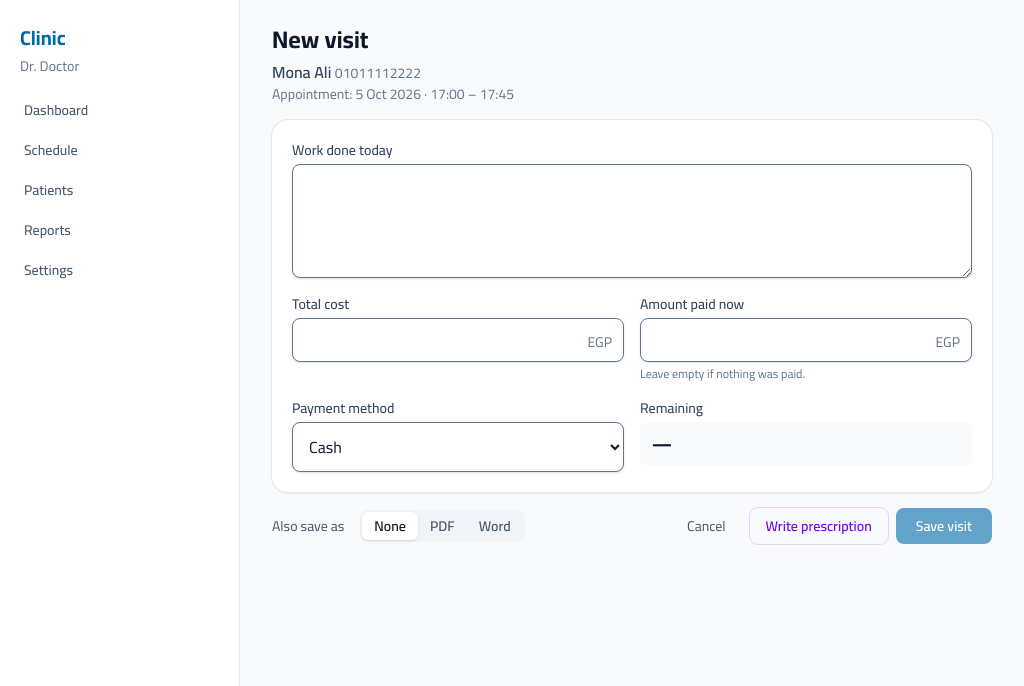
Test: VisitForm › after saving, the patient page offers a prescription for this visit
Type "Extraction" into the text box labelled "Work done today" at (632, 221), box [292,164,972,278]
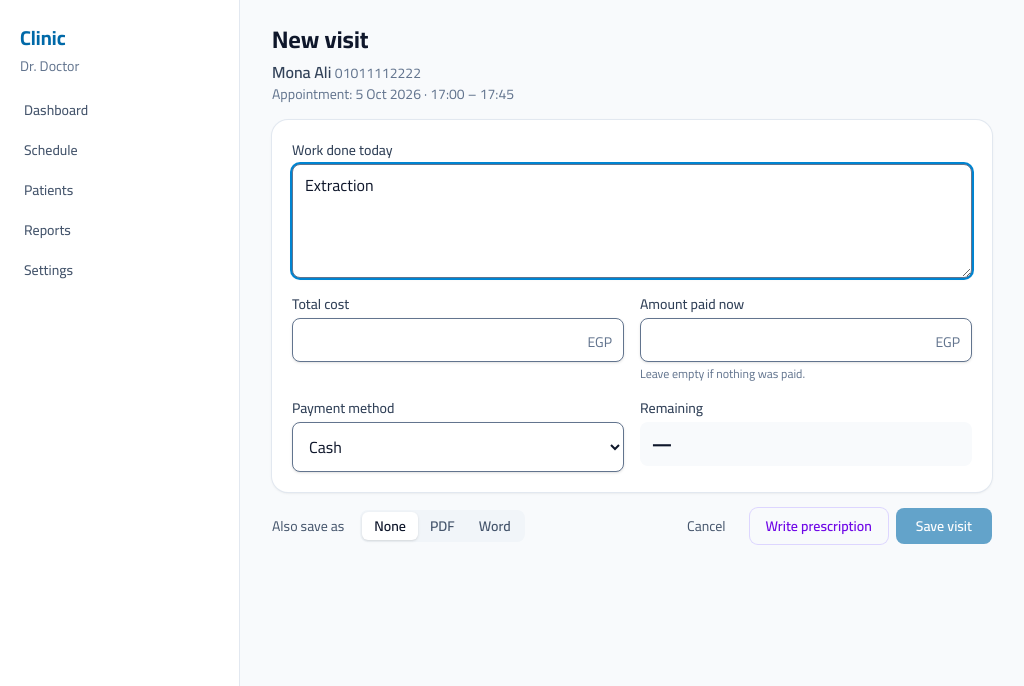
Type "800" into the field labelled "Total cost" at (458, 340), box [292,318,624,362]
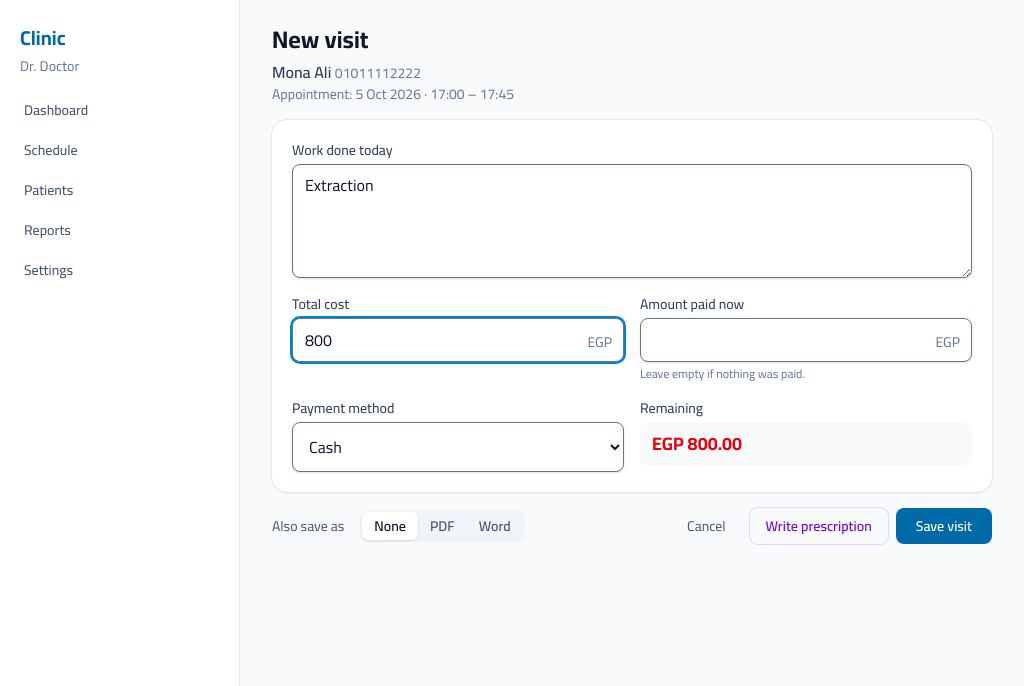
Type "800" into the field labelled "Amount paid now" at (806, 340), box [640,318,972,362]
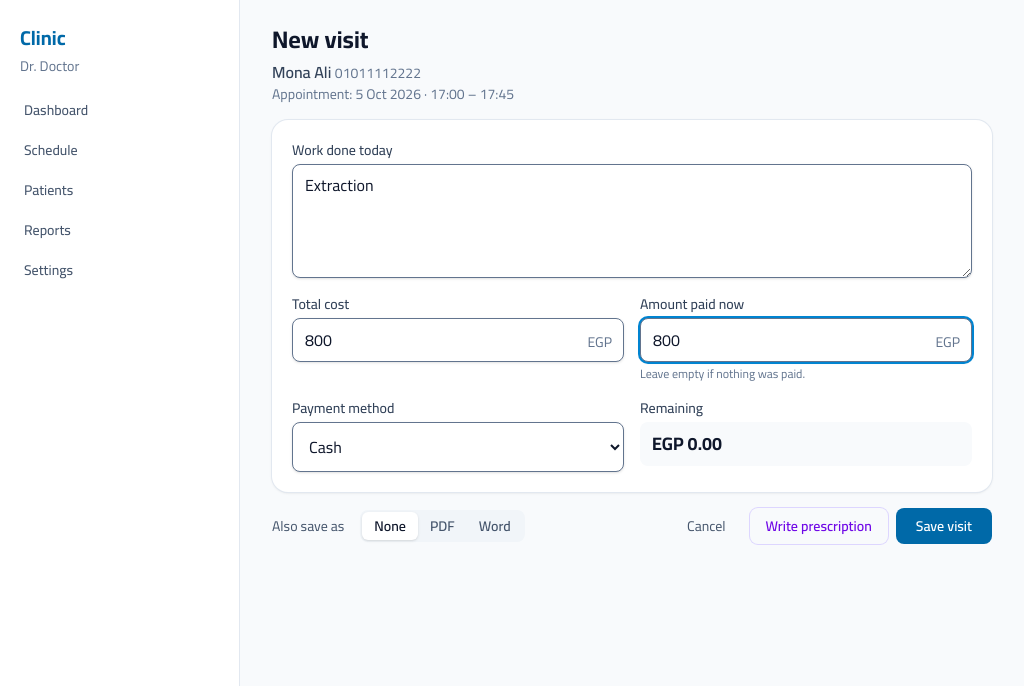
Click the button "Save visit" at (944, 526), box [896,508,992,544]
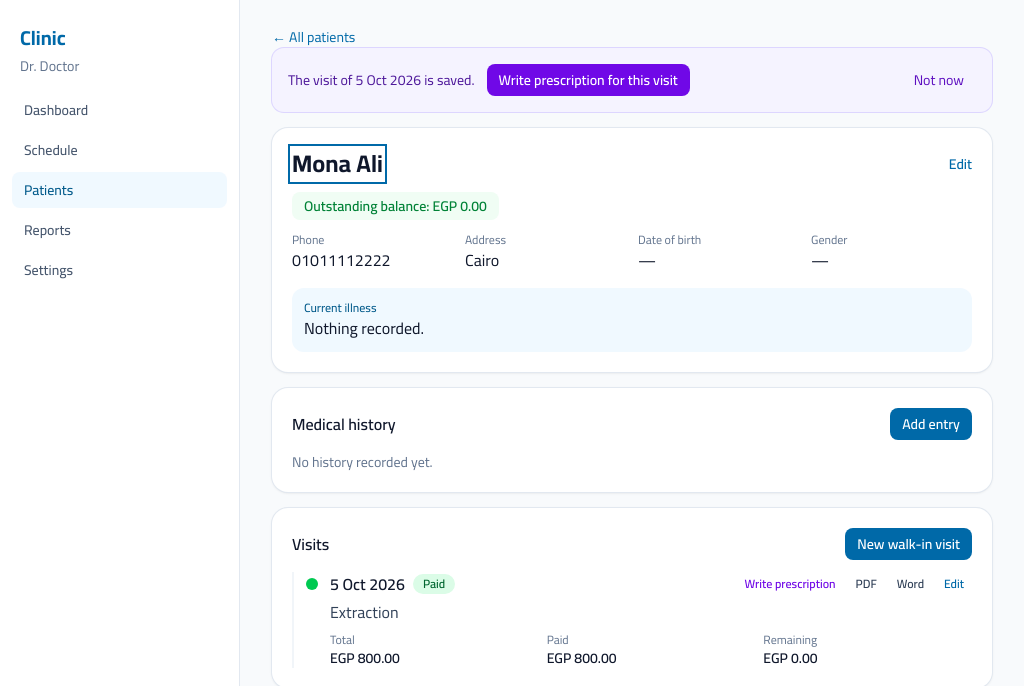
Expected: the text "The visit of 5 Oct 2026 is saved." is shown, [288,70,474,90]
Click the button "Not now" at (939, 80), box [902,64,976,96]
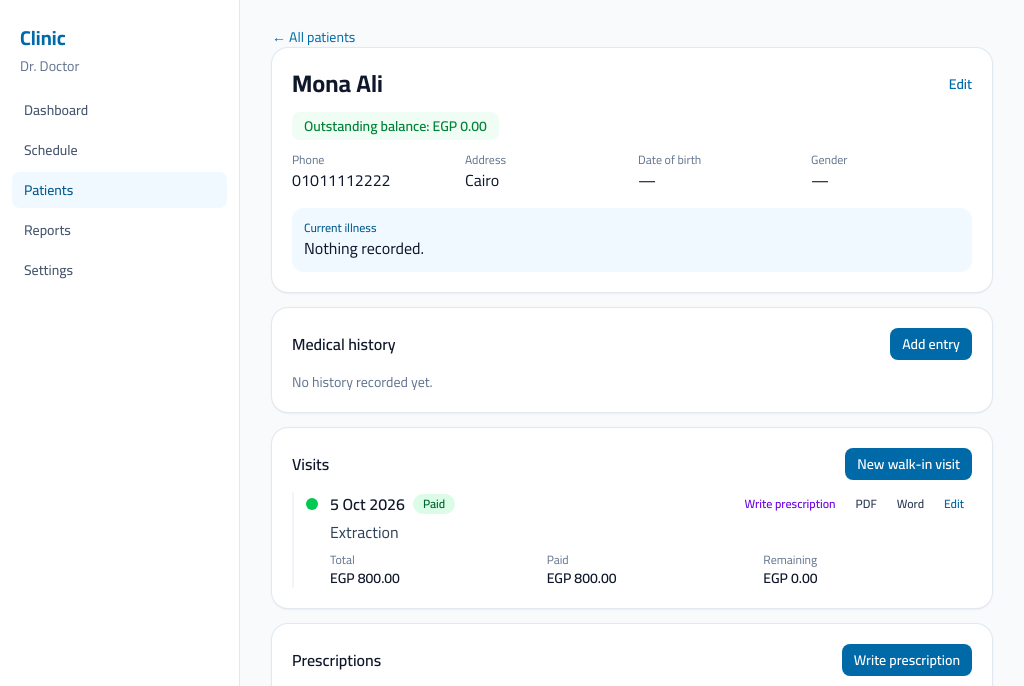
Expected: the link "Write prescription for this visit" is gone
